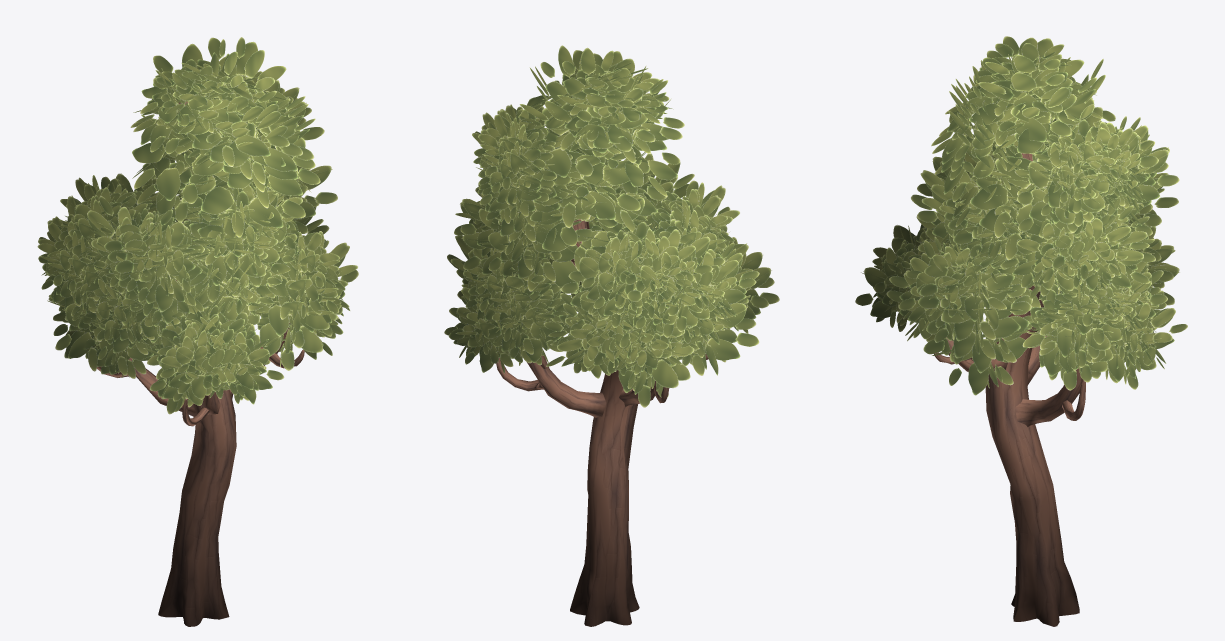
File: CommonTree_2.glb
3 views of the same model, side by side, from view 1: azimuth 30°, elevation 25°; view 2: azimuth 150°, elevation 25°; view 3: azimuth 270°, elevation 25° (orthographic). The views are drawn at different scales.
Parts seen in each view (by area): view 1: CommonTree_2; view 2: CommonTree_2; view 3: CommonTree_2.
Part boxes in pixels (x1,y1,x2,y2): CommonTree_2: [37, 37, 358, 626]; CommonTree_2: [444, 45, 779, 626]; CommonTree_2: [855, 36, 1187, 626].
Bounding box in the file's own units: 4.8 × 7.74 × 4.57.
Materials: 2 (2 with a texture image).
